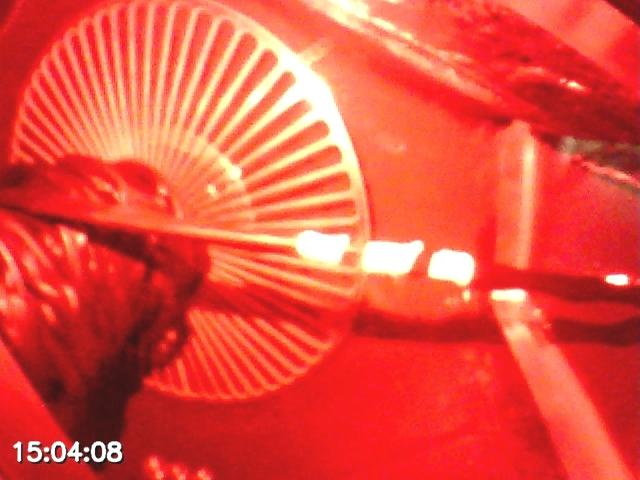white-dots: (295, 230, 475, 288)
